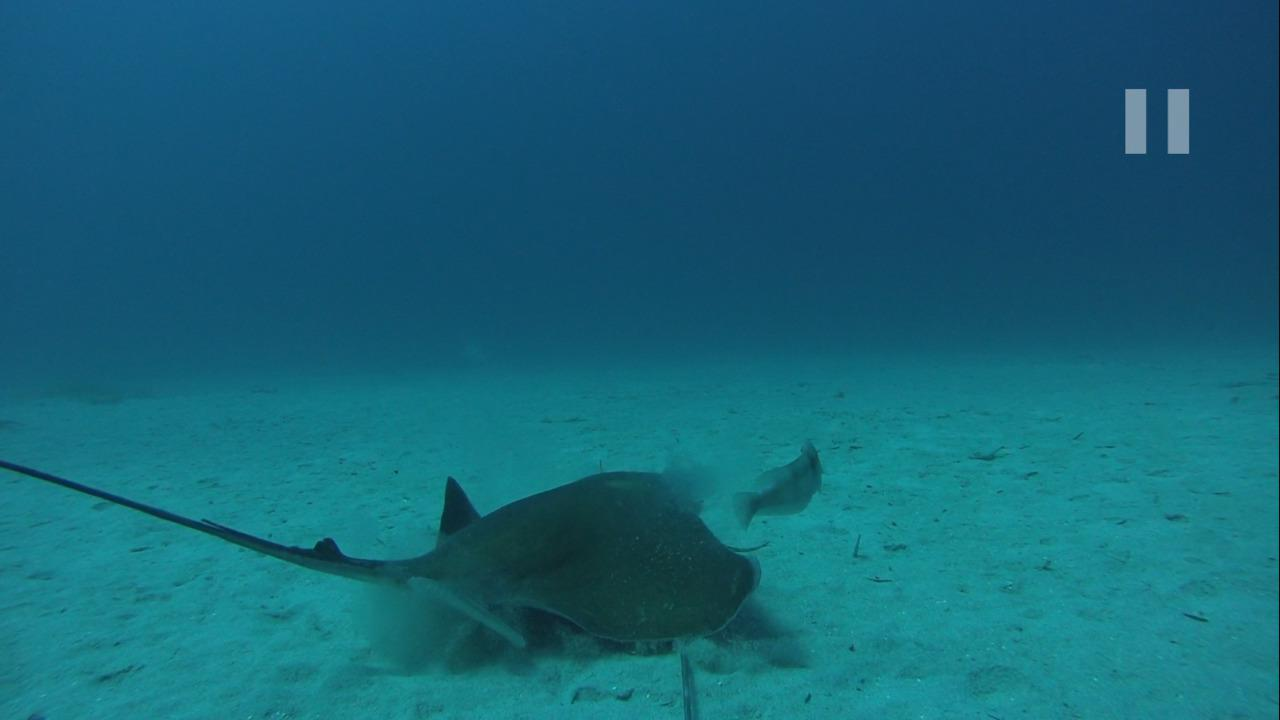myliobatis: (1, 445, 762, 650)
raor: (740, 438, 820, 528)
